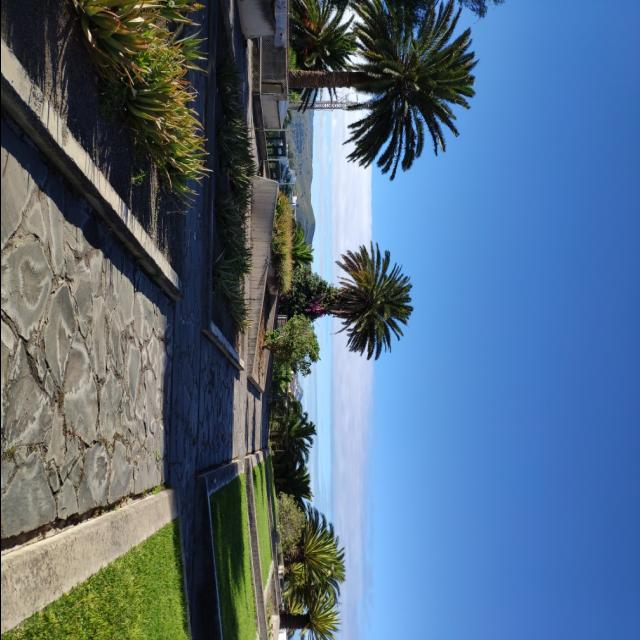Palm-Trees: (287, 1, 478, 184), (296, 240, 412, 362)
